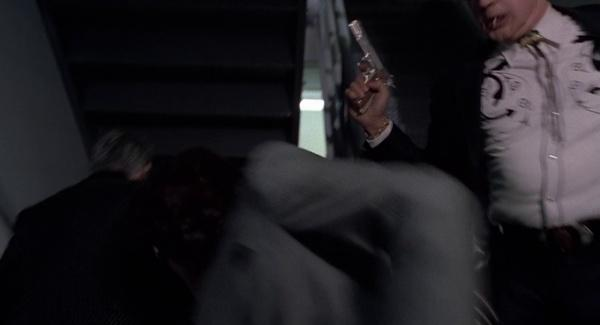Gun: (346, 19, 396, 113)
